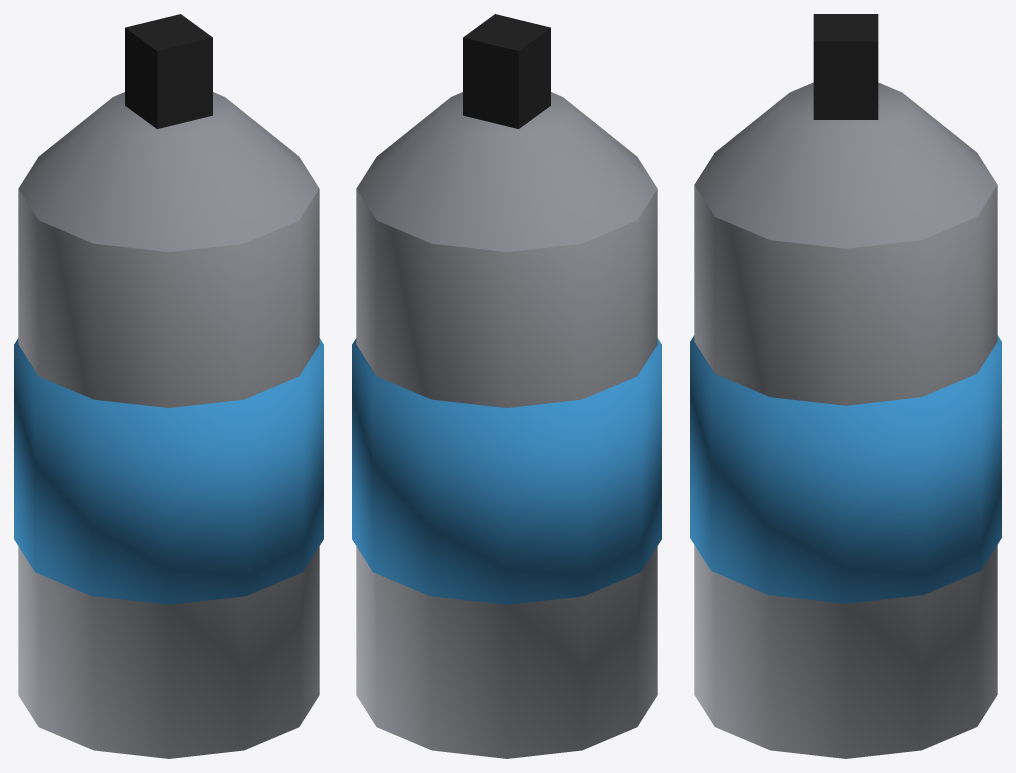
Rendered from paint_sprayer.glb.
3 views of the same model, side by side, from view 1: azimuth 30°, elevation 25°; view 2: azimuth 150°, elevation 25°; view 3: azimuth 270°, elevation 25° (orthographic).
Visible parts, largest first — view 1: paint_sprayer_v0; view 2: paint_sprayer_v0; view 3: paint_sprayer_v0.
Part boxes in pixels (left/top/right/bottom): paint_sprayer_v0: left=14, top=14, right=323, bottom=758; paint_sprayer_v0: left=352, top=14, right=661, bottom=758; paint_sprayer_v0: left=690, top=14, right=1001, bottom=758.
Size of the model in its own units: 0.144 by 0.34 by 0.144.
